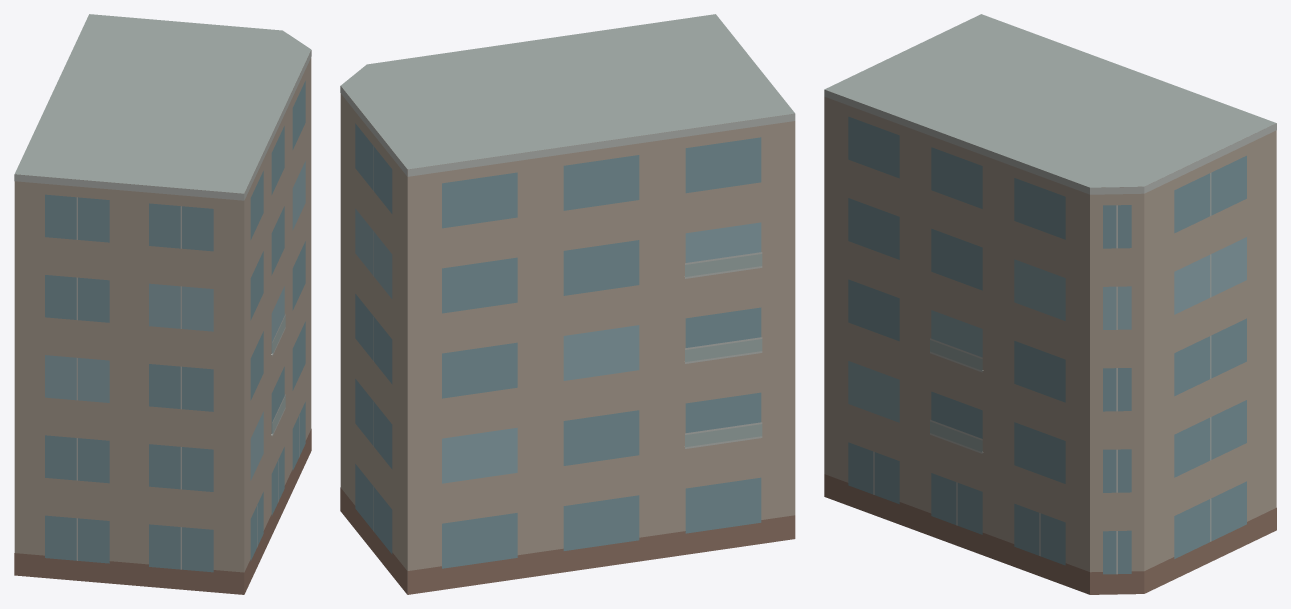
File: survey-upis-32901551.glb
The picture shows the model from 3 angles, left to right: view 1: azimuth 30°, elevation 25°; view 2: azimuth 150°, elevation 25°; view 3: azimuth 270°, elevation 25°; orthographic projection. The views are drawn at different scales.
Visible parts, largest first — view 1: survey-upis-32901551.tmp; view 2: survey-upis-32901551.tmp; view 3: survey-upis-32901551.tmp.
Boxes of the visible parts, x1,y1,x2,y2 form: survey-upis-32901551.tmp: (14,14,311,594); survey-upis-32901551.tmp: (340,14,795,594); survey-upis-32901551.tmp: (824,14,1276,594).
Bounding box in the file's own units: 12.81 × 14 × 14.11.
